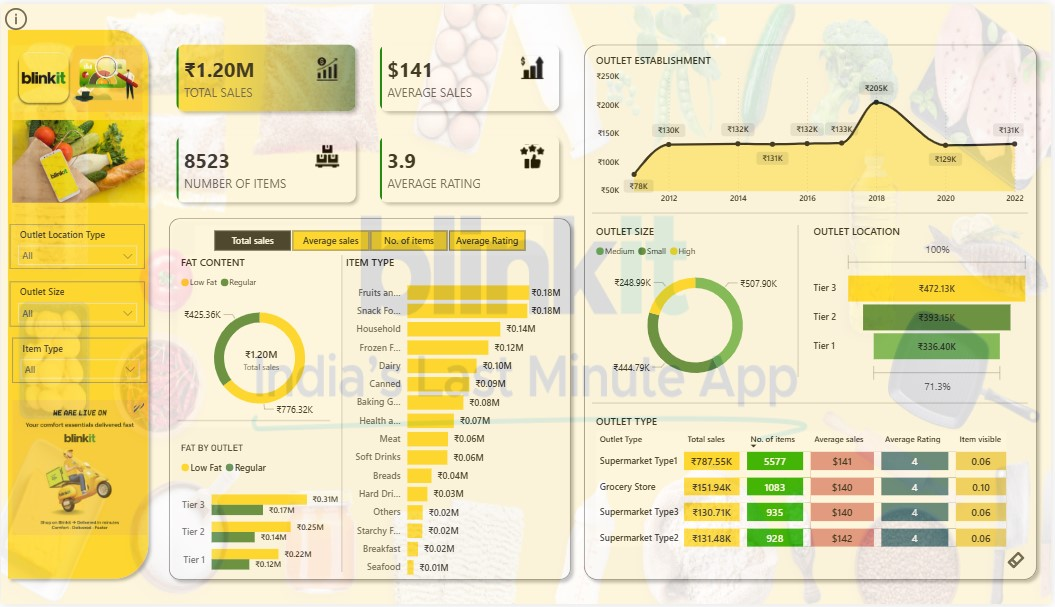

What the dashboard file says about the page in this screenshot:
{"tool":"powerbi","page":{"name":"Page 1","canvas":[1400,800],"ordinal":0},"visuals":[{"type":"shape","box":[0,25.5,205.6,750.4],"z":0},{"type":"cardVisual","fields":{"Data":["BlinkIT Grocery Data.Total sales","BlinkIT Grocery Data.Average sales","BlinkIT Grocery Data.No. of items","BlinkIT Grocery Data.Average Rating"]},"box":[205.1,25.5,569.7,269.4],"z":3000},{"type":"actionButton","box":[0,0,100,40],"z":4000},{"type":"textbox","box":[206,294,569,482],"z":5000},{"type":"actionButton","box":[414.2,67,40.2,40.2],"z":6000},{"type":"actionButton","box":[689,64.3,50.9,40.2],"z":7000},{"type":"actionButton","box":[414.2,176.9,40.2,53.6],"z":8000},{"type":"actionButton","box":[689,183.6,50.9,40.2],"z":9000},{"type":"shape","box":[214.5,276.1,553.6,500],"z":10000},{"type":"donutChart","title":"FAT CONTENT","fields":{"Y":["BlinkIT Grocery Data.Total sales"],"Category":["BlinkIT Grocery Data.Item Fat Content"]},"box":[234.6,335.1,219.8,229.2],"z":11000},{"type":"slicer","title":"FAT CONTENT","fields":{"Values":["Metrix.Metrix"]},"box":[258.7,294.9,465.1,40.2],"z":12000},{"type":"cardVisual","fields":{"Data":["BlinkIT Grocery Data.Total sales"]},"box":[280.2,439.7,134,68.4],"z":13000},{"type":"clusteredBarChart","title":"FAT BY OUTLET","fields":{"Y":["BlinkIT Grocery Data.Total sales"],"Category":["BlinkIT Grocery Data.Outlet Location Type"],"Series":["BlinkIT Grocery Data.Item Fat Content"]},"box":[234.6,585.8,219.8,190.3],"z":14000},{"type":"shape","box":[234.6,540.2,203.8,30.8],"z":15000},{"type":"shape","box":[438.3,335.1,32.2,422.3],"z":16000},{"type":"barChart","title":"ITEM TYPE","fields":{"Y":["BlinkIT Grocery Data.Total sales"],"Category":["BlinkIT Grocery Data.Item Type"]},"box":[454.4,335.1,296.2,441],"z":17000},{"type":"shape","box":[768.1,44.2,622,731.9],"z":18000},{"type":"lineChart","title":"OUTLET ESTABLISHMENT","fields":{"Y":["BlinkIT Grocery Data.Total sales"],"Category":["BlinkIT Grocery Data.Outlet Establishment Year"]},"box":[788.2,64.3,580.4,211.8],"z":19000},{"type":"shape","box":[788.2,264.1,580.4,30.8],"z":20000},{"type":"donutChart","title":"OUTLET SIZE","fields":{"Y":["BlinkIT Grocery Data.Total sales"],"Category":["BlinkIT Grocery Data.Outlet Size"]},"box":[788.2,293.6,275,225],"z":21000},{"type":"funnel","title":"OUTLET LOCATION","fields":{"Y":["BlinkIT Grocery Data.Total sales"],"Category":["BlinkIT Grocery Data.Outlet Location Type"]},"box":[1079.1,293.6,297.6,231.9],"z":22000},{"type":"shape","box":[1046.9,294.9,32.2,202.4],"z":23000},{"type":"pivotTable","title":"OUTLET TYPE","fields":{"Rows":["BlinkIT Grocery Data.Outlet Type"],"Values":["BlinkIT Grocery Data.Total sales","BlinkIT Grocery Data.No. of items","BlinkIT Grocery Data.Average sales","BlinkIT Grocery Data.Average Rating","Avg(BlinkIT Grocery Data.Item Visibility)"]},"box":[788.2,546.9,579.1,210.5],"z":24000},{"type":"slicer","fields":{"Values":["BlinkIT Grocery Data.Outlet Location Type"]},"box":[11.4,292.9,180,60],"z":25000},{"type":"slicer","fields":{"Values":["BlinkIT Grocery Data.Outlet Size"]},"box":[11.4,370,180,60],"z":26000},{"type":"shape","box":[788.2,516.1,580.4,30.8],"z":27000},{"type":"slicer","fields":{"Values":["BlinkIT Grocery Data.Item Type"]},"box":[14.3,444.3,180,60],"z":28000},{"type":"actionButton","box":[1338.6,722.9,30,35.7],"z":29000},{"type":"image","box":[11.7,20,176.7,159.2],"z":29001},{"type":"image","box":[14.3,125.7,177.1,170],"z":29002},{"type":"image","box":[14.3,525.7,180,185.7],"z":29003},{"type":"image","box":[0,0,1400,800],"z":29004}]}

Visuals, with their boxes in screenshot pixels (x1, y1, x2, y2), scaled from the page's 1400x800 canvas onto the 1055x607 screenshot:
shape: locate(0, 19, 155, 589)
cardVisual - BlinkIT Grocery Data.Total sales x BlinkIT Grocery Data.Average sales: locate(155, 19, 584, 224)
actionButton: locate(0, 0, 75, 30)
textbox: locate(155, 223, 584, 589)
actionButton: locate(312, 51, 342, 81)
actionButton: locate(519, 49, 558, 79)
actionButton: locate(312, 134, 342, 175)
actionButton: locate(519, 139, 558, 170)
shape: locate(162, 209, 579, 589)
"FAT CONTENT" donutChart: locate(177, 254, 342, 428)
"FAT CONTENT" slicer: locate(195, 224, 545, 254)
cardVisual - BlinkIT Grocery Data.Total sales: locate(211, 334, 312, 386)
"FAT BY OUTLET" clusteredBarChart: locate(177, 444, 342, 589)
shape: locate(177, 410, 330, 433)
shape: locate(330, 254, 355, 575)
"ITEM TYPE" barChart: locate(342, 254, 566, 589)
shape: locate(579, 34, 1048, 589)
"OUTLET ESTABLISHMENT" lineChart: locate(594, 49, 1031, 209)
shape: locate(594, 200, 1031, 224)
"OUTLET SIZE" donutChart: locate(594, 223, 801, 393)
"OUTLET LOCATION" funnel: locate(813, 223, 1037, 399)
shape: locate(789, 224, 813, 377)
"OUTLET TYPE" pivotTable: locate(594, 415, 1030, 575)
slicer - BlinkIT Grocery Data.Outlet Location Type: locate(9, 222, 144, 268)
slicer - BlinkIT Grocery Data.Outlet Size: locate(9, 281, 144, 326)
shape: locate(594, 392, 1031, 415)
slicer - BlinkIT Grocery Data.Item Type: locate(11, 337, 146, 383)
actionButton: locate(1009, 549, 1031, 576)
image: locate(9, 15, 142, 136)
image: locate(11, 95, 144, 224)
image: locate(11, 399, 146, 540)
image: locate(0, 0, 1054, 606)
